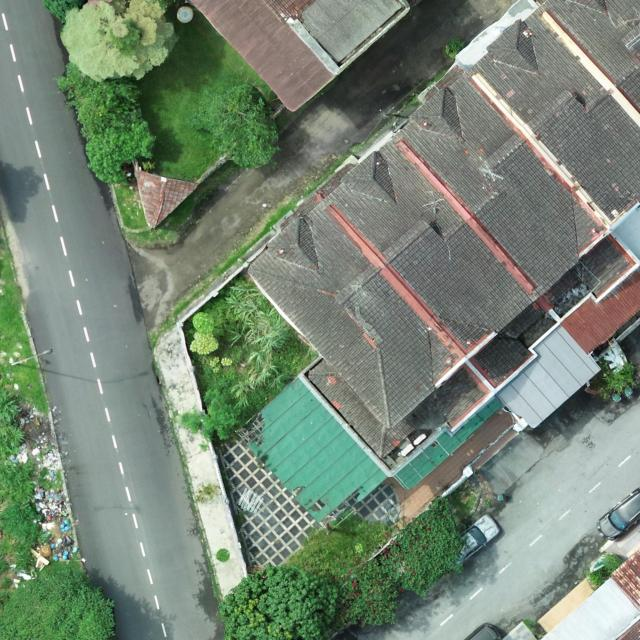Tree: (56, 63, 158, 184), (59, 0, 181, 83), (0, 559, 118, 640), (218, 564, 340, 640), (378, 496, 465, 597), (186, 82, 280, 169), (225, 285, 291, 404), (334, 558, 400, 632), (202, 389, 238, 440), (598, 360, 636, 402), (190, 330, 220, 355), (445, 37, 465, 60)
